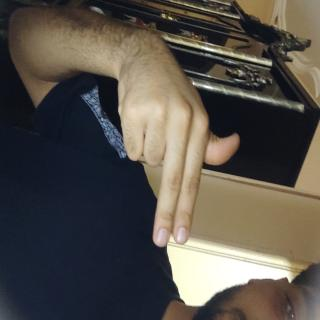GHAYN: (17, 102, 191, 277)
